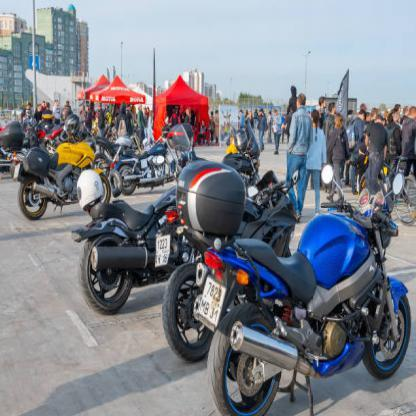Motorcycle: (187, 186, 415, 415)
